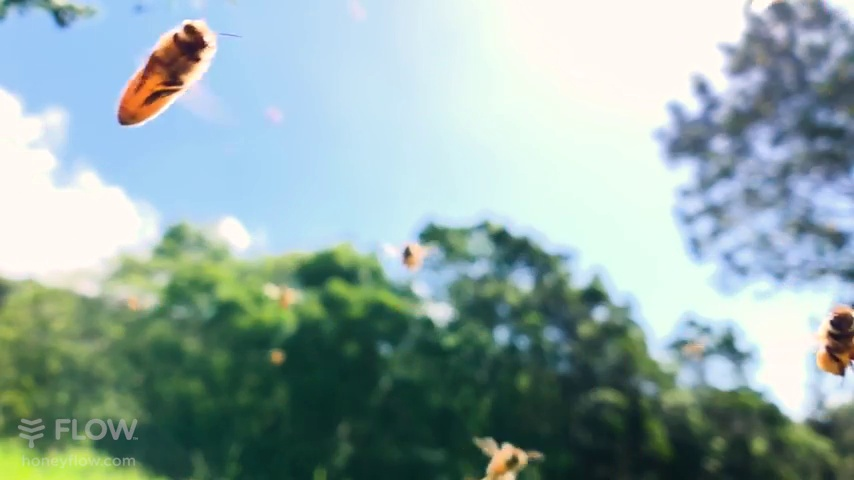insect: (114, 19, 218, 131), (467, 433, 538, 480), (818, 305, 854, 374)
